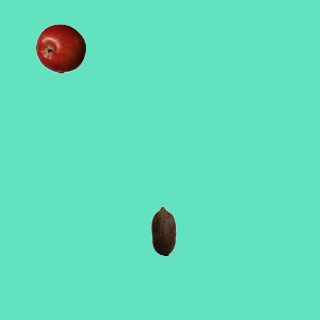Apple Braeburn: (35, 23, 85, 73)
Nut Pecan: (138, 205, 188, 255)
